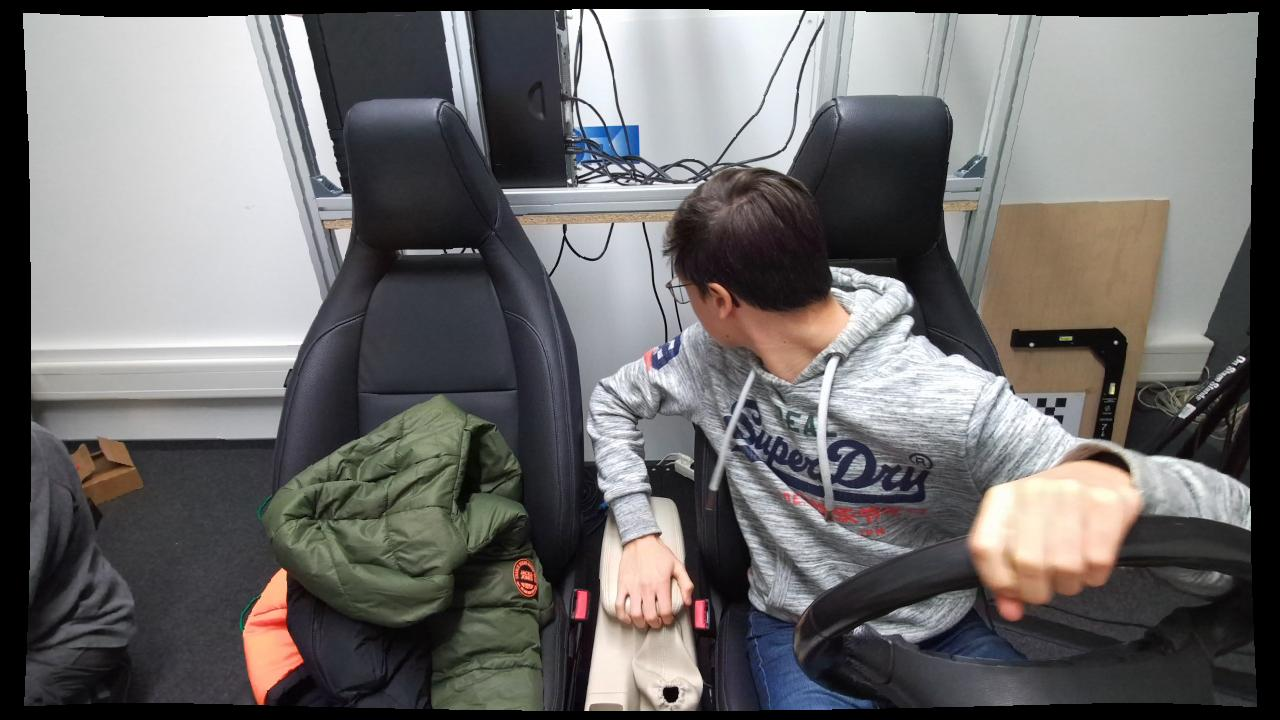Distracted: (624, 156, 1008, 688)
